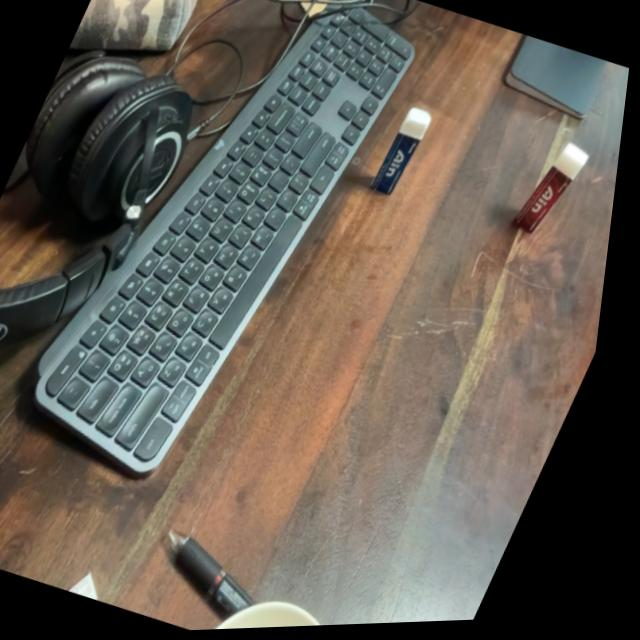blue: (366, 97, 443, 210)
red: (506, 124, 607, 266)
